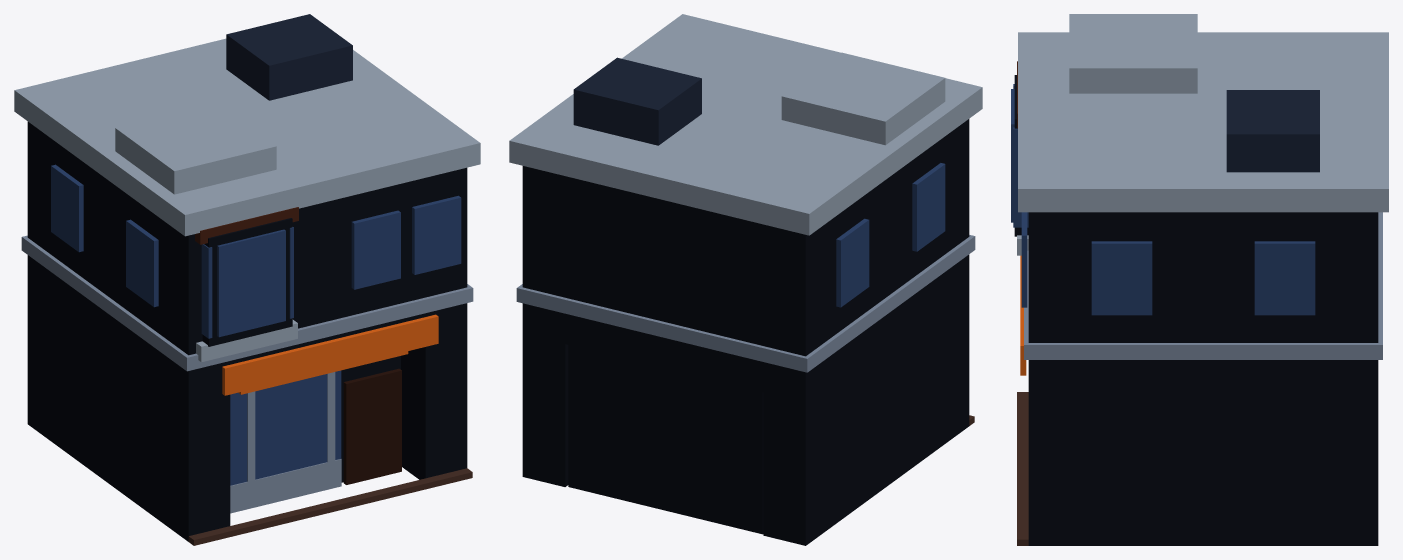
The model's file is highstreet4.obj.
3 renders of one model, left to right at view 1: azimuth 30°, elevation 25°; view 2: azimuth 150°, elevation 25°; view 3: azimuth 270°, elevation 25°, orthographic. The views are drawn at different scales.
Parts seen in each view (by area): view 1: parapet, ground-piers, upper-floor, shopfront, roof-plant, oriel-glazing, upper-windows, floor-band, fascia-sign, shop-door, mullions, side-windows (+7 smaller); view 2: parapet, upper-floor, ground-piers, ground-back, roof-plant, floor-band, shopfront-head, side-windows; view 3: ground-piers, parapet, upper-floor, side-windows, roof-plant, floor-band, pavement, oriel-glazing, upper-windows.
Boxes of the visible parts, left/top/right/bottom form: parapet: left=14, top=38, right=480, bottom=236; ground-piers: left=27, top=255, right=467, bottom=541; upper-floor: left=27, top=121, right=467, bottom=355; shopfront: left=230, top=370, right=341, bottom=485; roof-plant: left=226, top=14, right=352, bottom=100; oriel-glazing: left=201, top=227, right=293, bottom=338; upper-windows: left=351, top=195, right=461, bottom=289; floor-band: left=21, top=235, right=473, bottom=371; fascia-sign: left=222, top=314, right=438, bottom=395; shop-door: left=343, top=368, right=401, bottom=484; mullions: left=230, top=372, right=341, bottom=513; side-windows: left=51, top=164, right=158, bottom=307; parapet: left=509, top=14, right=982, bottom=235; upper-floor: left=522, top=119, right=969, bottom=356; ground-piers: left=522, top=254, right=969, bottom=545; ground-back: left=568, top=345, right=763, bottom=534; roof-plant: left=573, top=57, right=701, bottom=145; floor-band: left=516, top=235, right=975, bottom=372; shopfront-head: left=565, top=313, right=763, bottom=392; side-windows: left=836, top=163, right=945, bottom=307; ground-piers: left=1028, top=360, right=1378, bottom=545; parapet: left=1018, top=14, right=1388, bottom=212; upper-floor: left=1028, top=212, right=1378, bottom=342; side-windows: left=1091, top=241, right=1315, bottom=315; roof-plant: left=1226, top=90, right=1319, bottom=172; floor-band: left=1024, top=212, right=1382, bottom=359; pavement: left=1017, top=392, right=1028, bottom=545; oriel-glazing: left=1011, top=84, right=1028, bottom=227; upper-windows: left=1021, top=212, right=1027, bottom=307.
Bounding box in the file's own units: 3.18 × 3.78 × 3.24.
